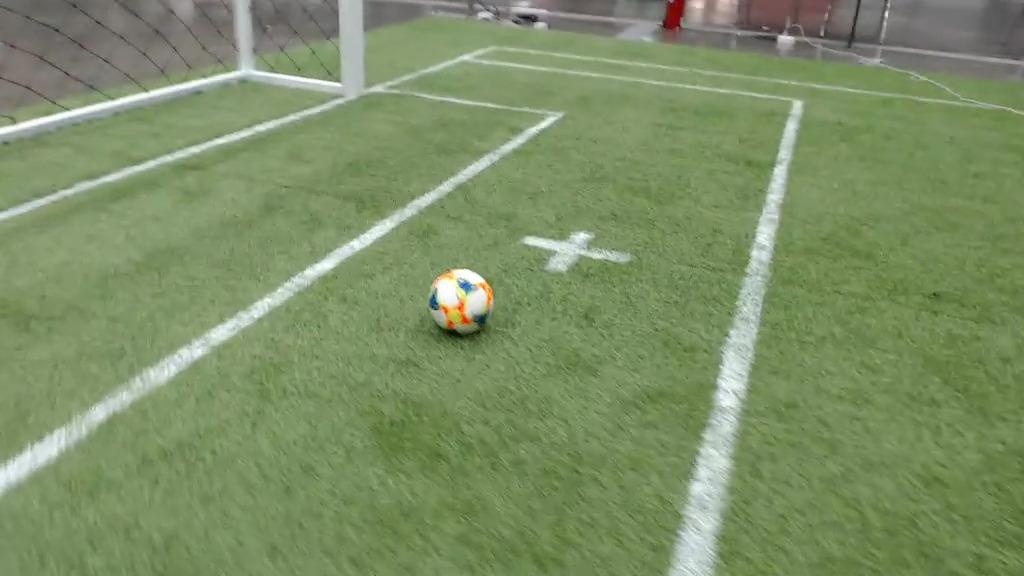ball: (429, 269, 493, 334)
